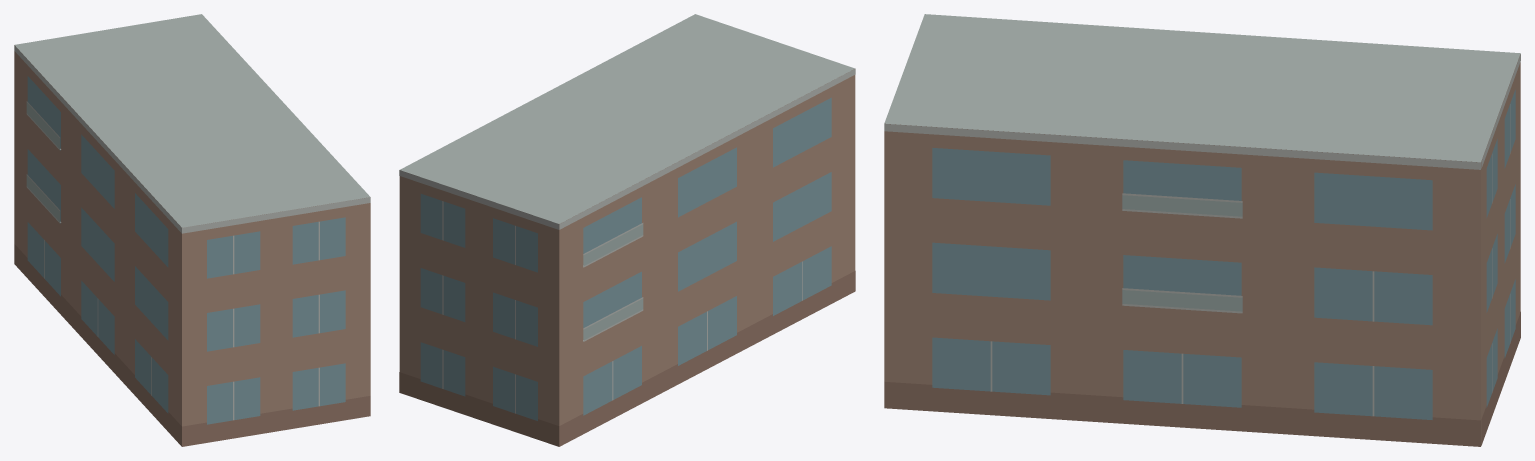
Rendered from survey-upis-32820026.glb.
3 views of the same model, side by side, from view 1: azimuth 30°, elevation 25°; view 2: azimuth 150°, elevation 25°; view 3: azimuth 270°, elevation 25° (orthographic). The views are drawn at different scales.
Parts seen in each view (by area): view 1: survey-upis-32820026.tmp; view 2: survey-upis-32820026.tmp; view 3: survey-upis-32820026.tmp.
Boxes of the visible parts, x1=… form: survey-upis-32820026.tmp: x1=14, y1=14, x2=370, y2=446; survey-upis-32820026.tmp: x1=399, y1=14, x2=855, y2=446; survey-upis-32820026.tmp: x1=884, y1=14, x2=1520, y2=446.
Bounding box in the file's own units: 10.24 × 9.15 × 18.56.
